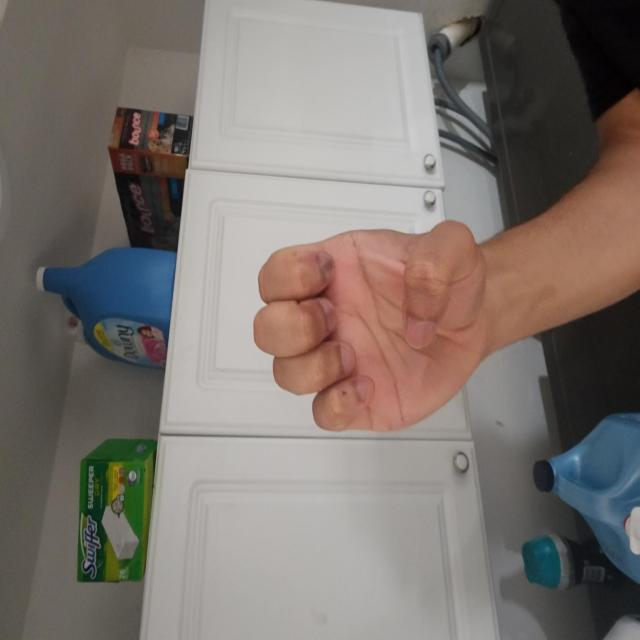E: (131, 314, 390, 640)
